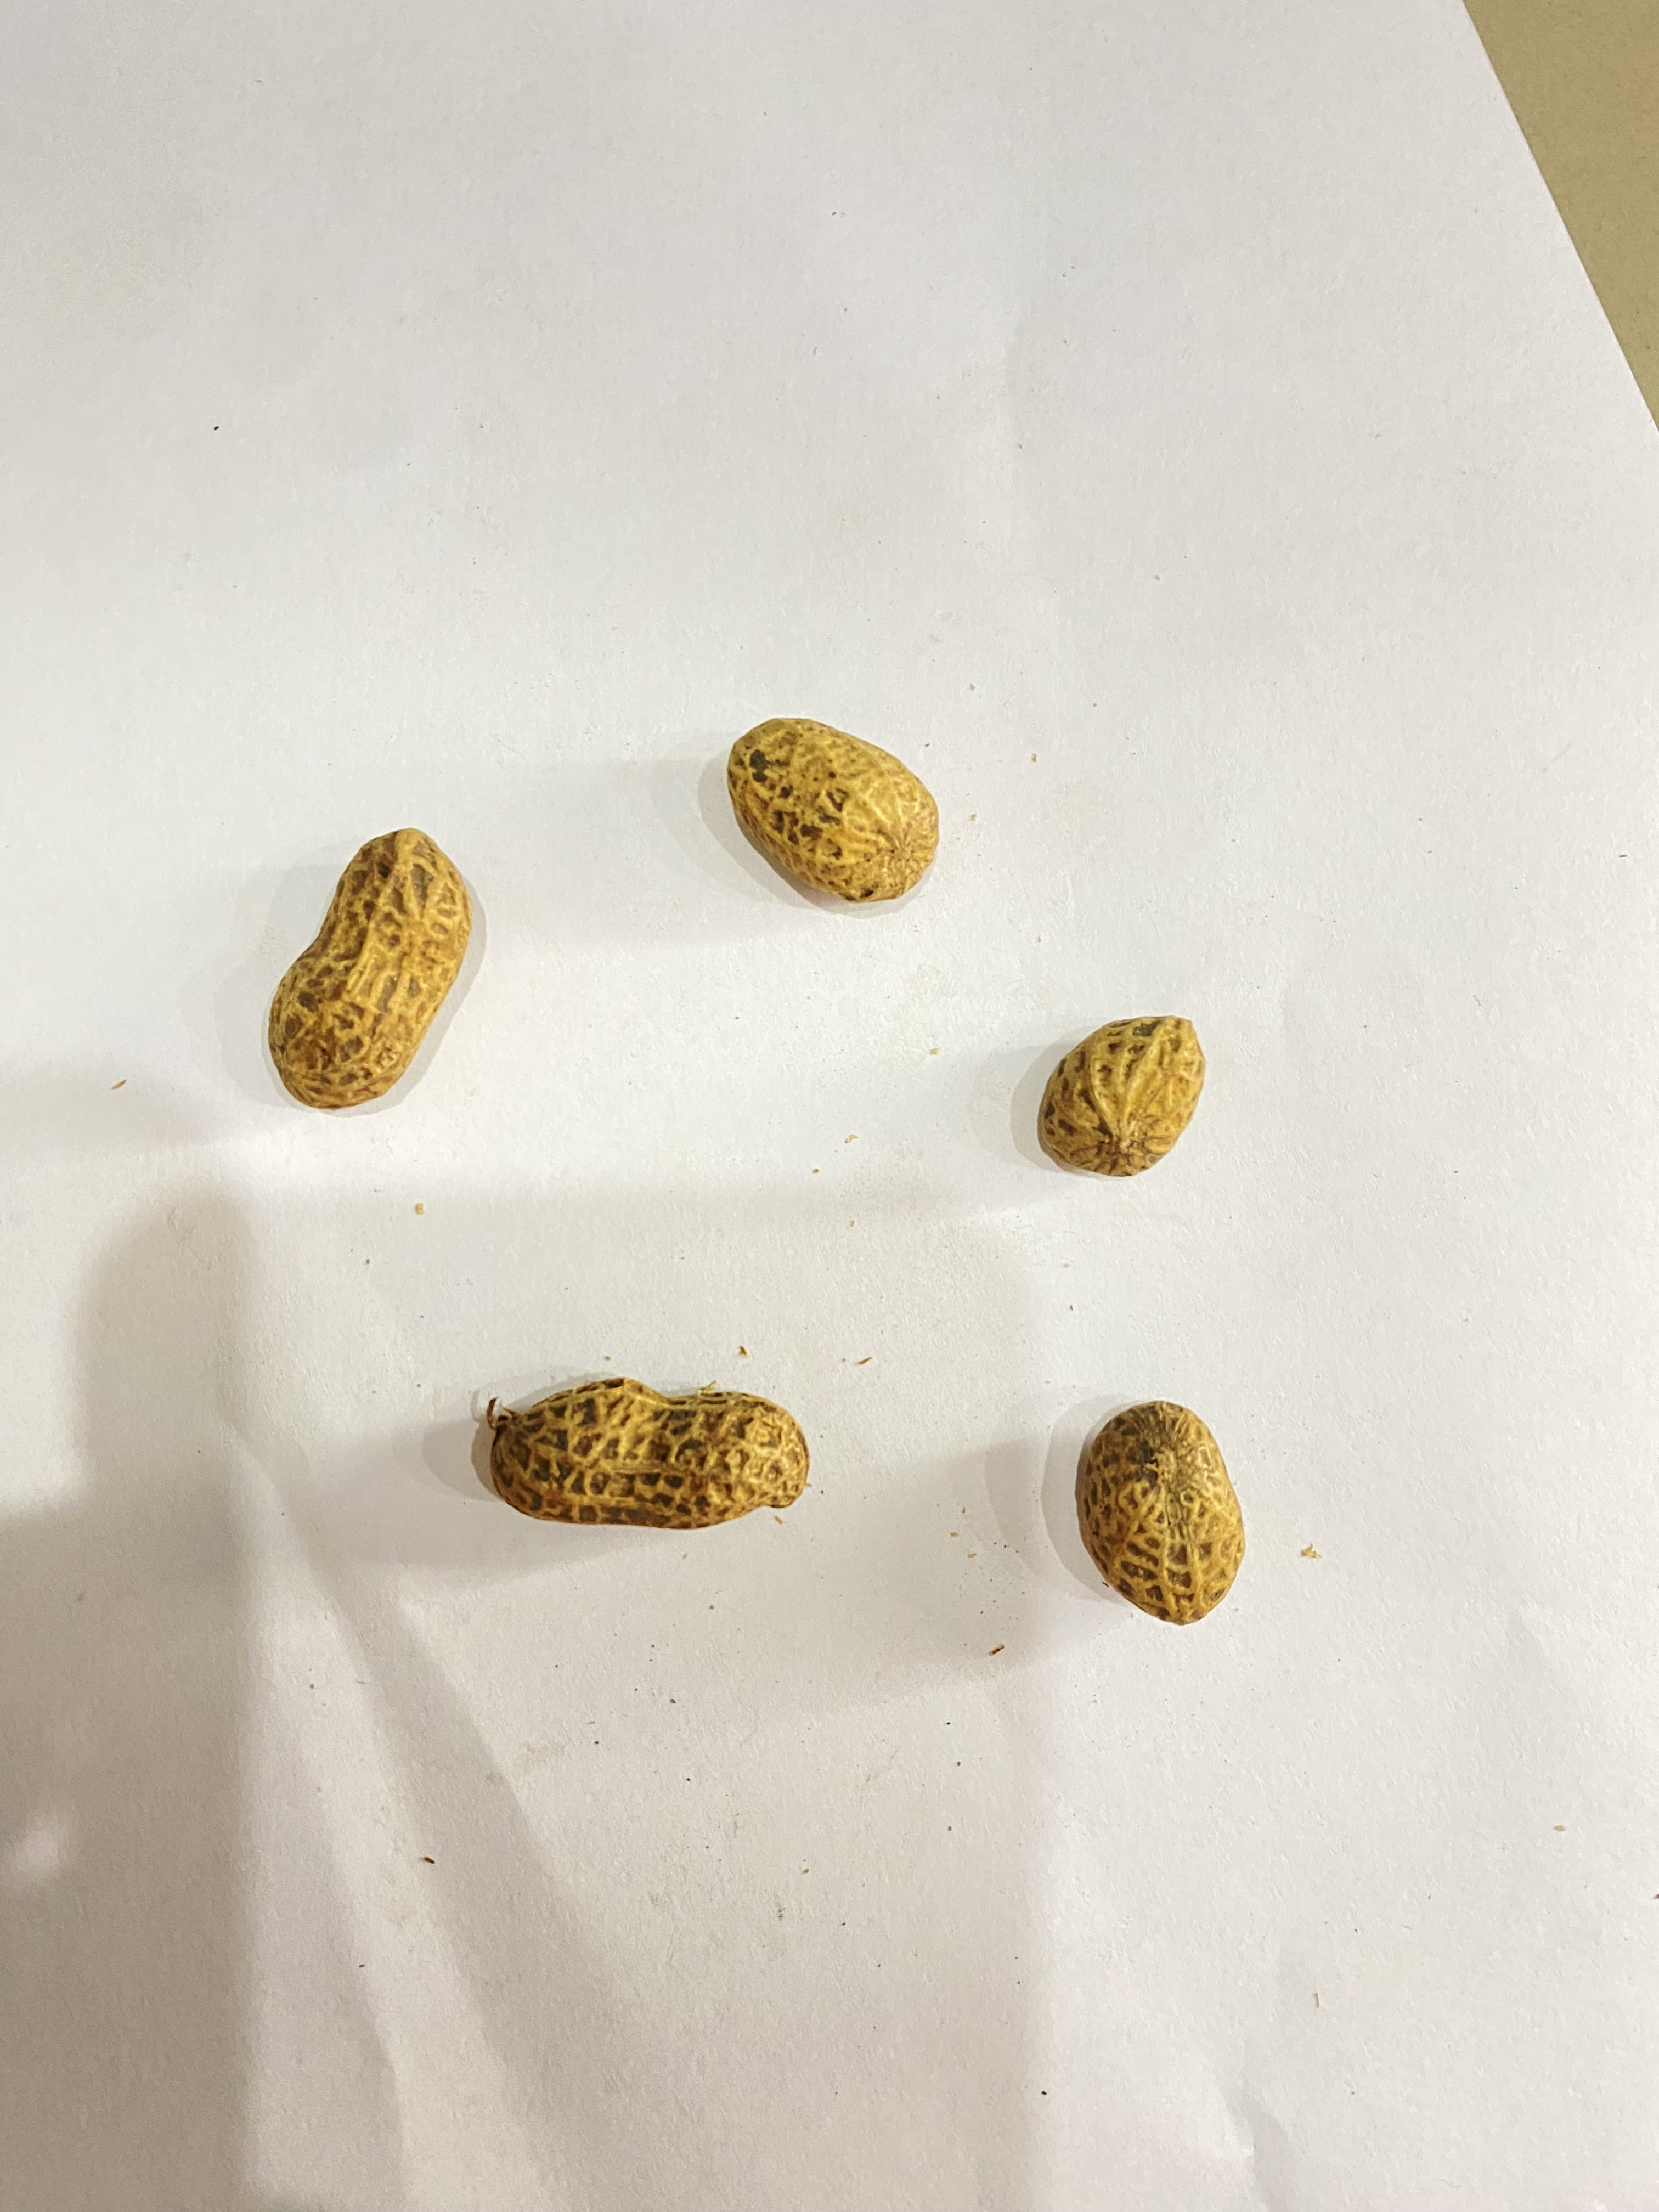kacang1: (680, 674, 945, 921), (1072, 1381, 1281, 1651), (1009, 993, 1249, 1188)
kacang2: (410, 1353, 859, 1566), (258, 824, 516, 1127)
